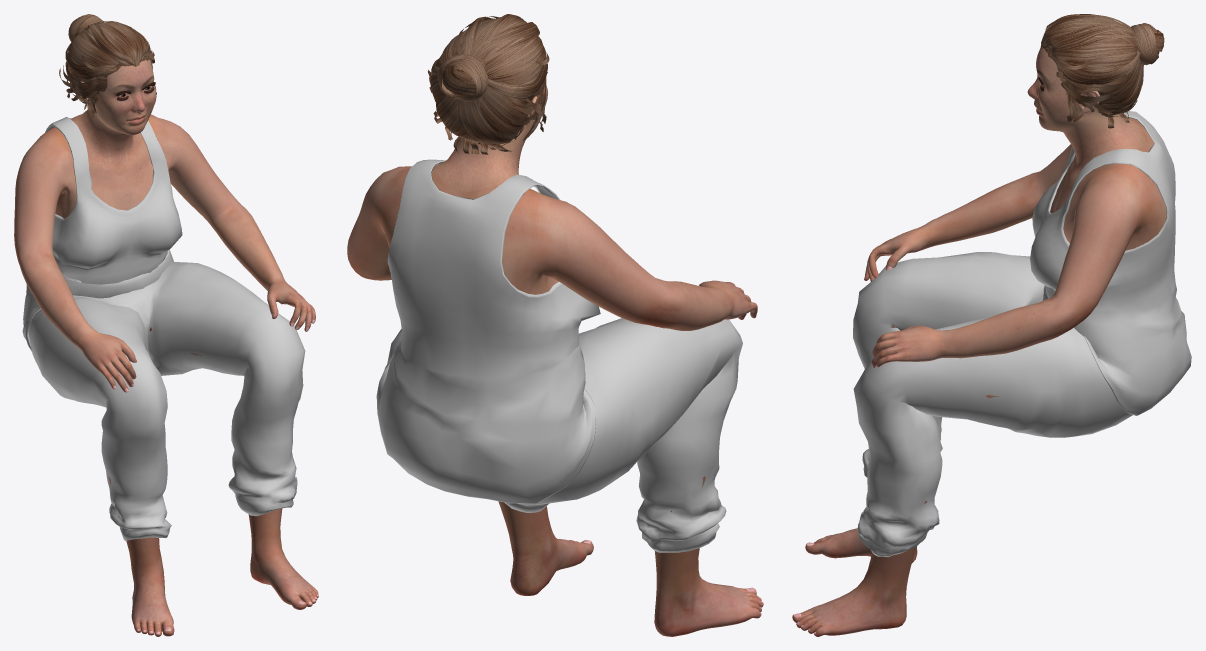
The model's file is Eye_L_Decrease.fbx.
The picture shows the model from 3 angles, left to right: view 1: azimuth 30°, elevation 25°; view 2: azimuth 150°, elevation 25°; view 3: azimuth 270°, elevation 25°; orthographic projection. The views are drawn at different scales.
Parts seen in each view (by area): view 1: Biker_Jeans1, CC_Base_Body1, Tank_Top1, Hair1; view 2: Tank_Top1, CC_Base_Body1, Biker_Jeans1, Hair1; view 3: Biker_Jeans1, CC_Base_Body1, Tank_Top1, Hair1.
Part boxes in pixels (x1,y1,x2,y2): Biker_Jeans1: [28, 261, 305, 540]; CC_Base_Body1: [14, 59, 318, 636]; Tank_Top1: [22, 117, 182, 351]; Hair1: [59, 14, 156, 118]; Tank_Top1: [376, 159, 600, 503]; CC_Base_Body1: [347, 72, 763, 636]; Biker_Jeans1: [387, 318, 742, 552]; Hair1: [428, 14, 549, 154]; Biker_Jeans1: [853, 252, 1132, 557]; CC_Base_Body1: [792, 47, 1166, 636]; Tank_Top1: [1030, 111, 1191, 415]; Hair1: [1040, 14, 1164, 128].
Bounding box in the file's own units: 63.81 × 131 × 82.45.
